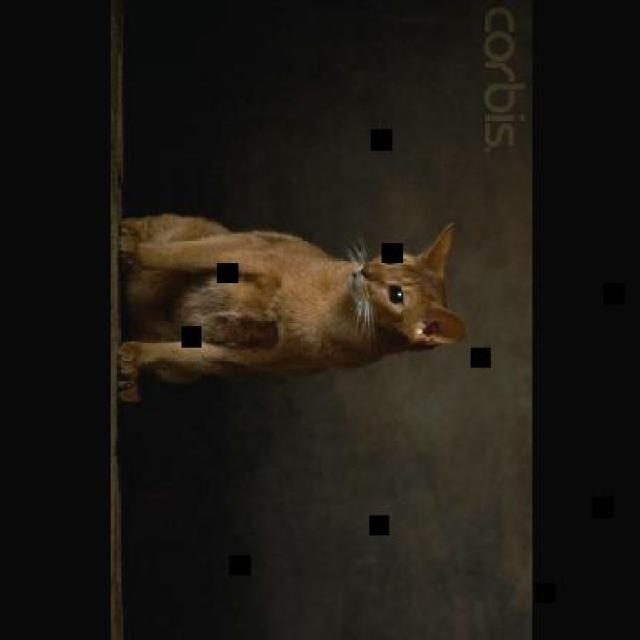unauthorized: (117, 210, 466, 404)
